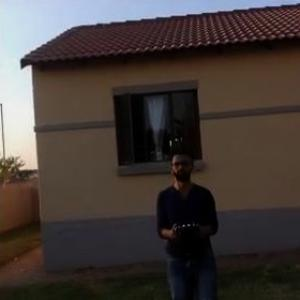follow: (146, 140, 220, 299)
